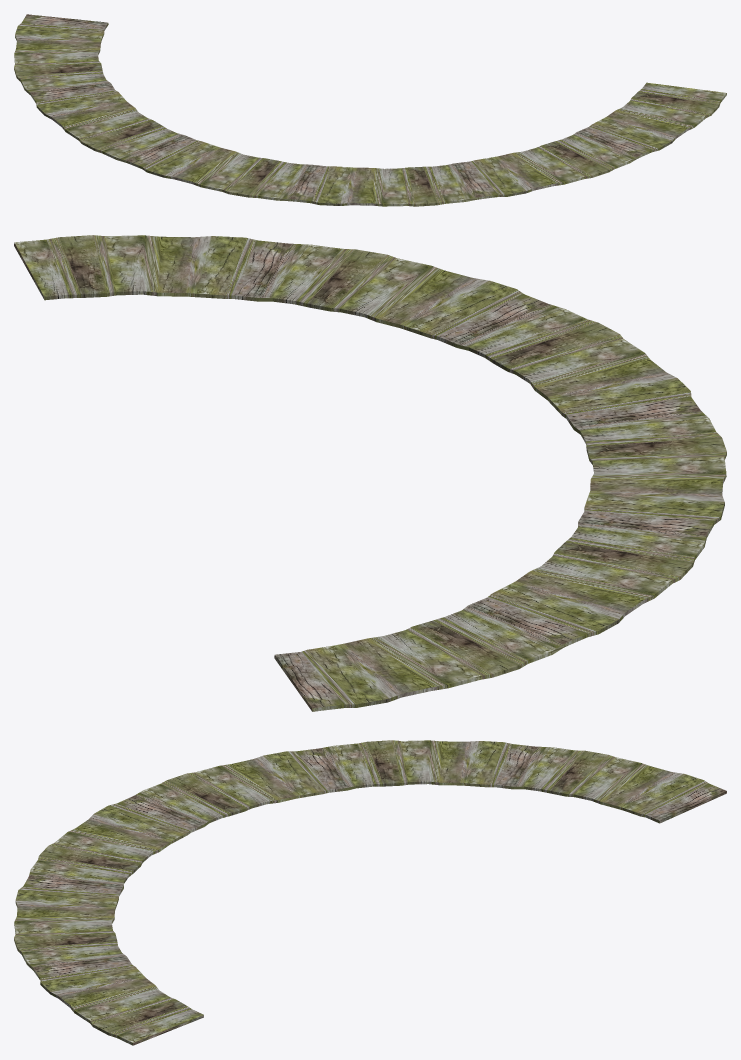
File: Col-R-1-C.fbx
3 views of the same model, one above another, from view 1: azimuth 30°, elevation 25°; view 2: azimuth 150°, elevation 25°; view 3: azimuth 270°, elevation 25° (orthographic). The views are drawn at different scales.
Parts seen in each view (by area): view 1: ramp_001; view 2: ramp_001; view 3: ramp_001.
Part boxes in pixels (x1,y1,x2,y2): ramp_001: (14,14,726,206); ramp_001: (14,235,726,711); ramp_001: (14,740,726,1045).
Bounding box in the file's own units: 732 × 3 × 728.
